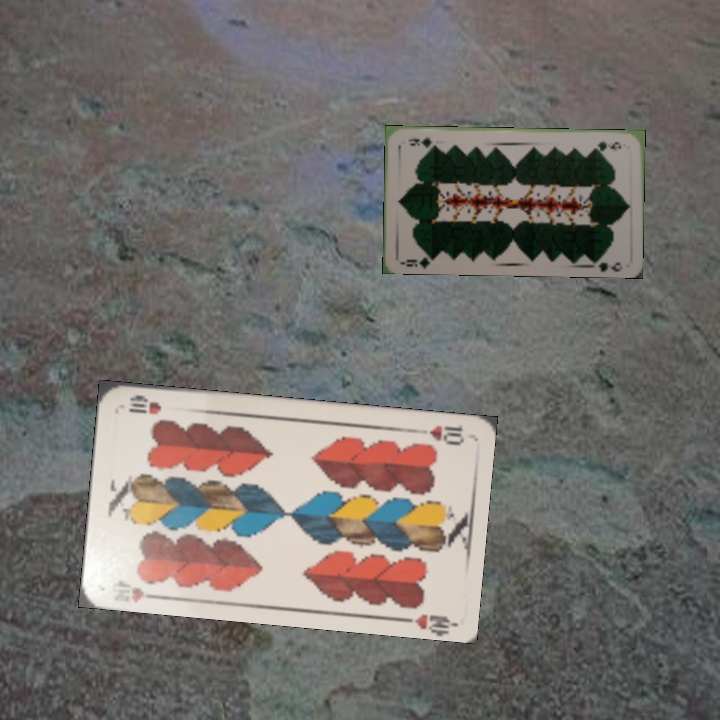G9: (397, 250, 438, 270), (589, 137, 623, 152)
H10: (410, 421, 467, 447), (127, 583, 163, 604)
